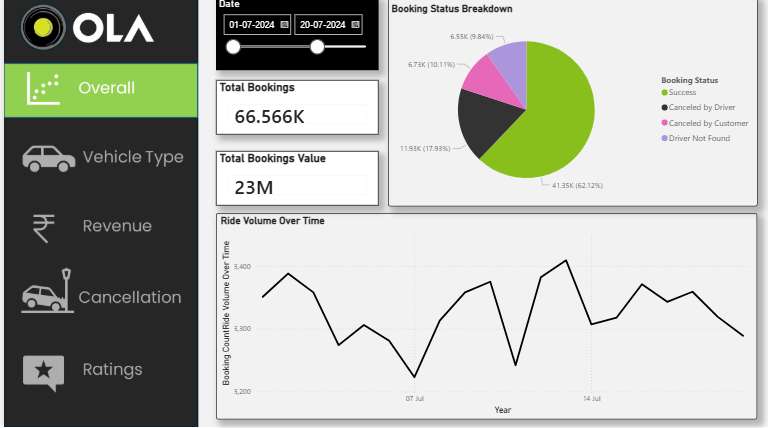

Layout of this report page (visuals, bound fields, positions):
{"tool":"powerbi","page":{"name":"Overall","canvas":[1280,720],"ordinal":0},"visuals":[{"type":"actionButton","box":[0,230.4,324,90.7],"z":0},{"type":"actionButton","box":[0,348.5,324,90.7],"z":1000},{"type":"actionButton","box":[0,450.7,324,90.7],"z":2000},{"type":"actionButton","box":[0,583.2,324,90.7],"z":3000},{"type":"lineChart","title":"Ride Volume Over Time","fields":{"Y":["CountNonNull(July.Booking_ID)"],"Category":["July.Date.Variation.Date Hierarchy.Year","July.Date.Variation.Date Hierarchy.Quarter","July.Date.Variation.Date Hierarchy.Month","July.Date.Variation.Date Hierarchy.Day"]},"box":[353.9,360.6,902.4,343.7],"z":4000},{"type":"pieChart","title":"Booking Status Breakdown","fields":{"Y":["CountNonNull(July.Booking_Status)"],"Category":["July.Booking_Status"]},"box":[640,0,616.3,348.8],"z":5000},{"type":"slicer","title":"Date","fields":{"Values":["July.Date"]},"box":[353.9,0,270.9,121.9],"z":6000},{"type":"cardVisual","title":"    Total Bookings","fields":{"Data":["CountNonNull(July.Booking_ID)"]},"box":[353.9,138.8,270.9,91.4],"z":7000},{"type":"cardVisual","title":"    Total Bookings Value","fields":{"Data":["Sum(July.Booking_Value)"]},"box":[353.9,257.4,270.9,91.4],"z":8000}]}

Visuals, with their boxes in screenshot pixels (x1, y1, x2, y2), scaled from the page's 1280x720 canvas onto the 768x428 screenshot:
actionButton: x1=0, y1=137, x2=194, y2=191
actionButton: x1=0, y1=207, x2=194, y2=261
actionButton: x1=0, y1=268, x2=194, y2=322
actionButton: x1=0, y1=347, x2=194, y2=401
"Ride Volume Over Time" lineChart: x1=212, y1=214, x2=754, y2=419
"Booking Status Breakdown" pieChart: x1=384, y1=0, x2=754, y2=207
"Date" slicer: x1=212, y1=0, x2=375, y2=72
"    Total Bookings" cardVisual: x1=212, y1=83, x2=375, y2=137
"    Total Bookings Value" cardVisual: x1=212, y1=153, x2=375, y2=207
